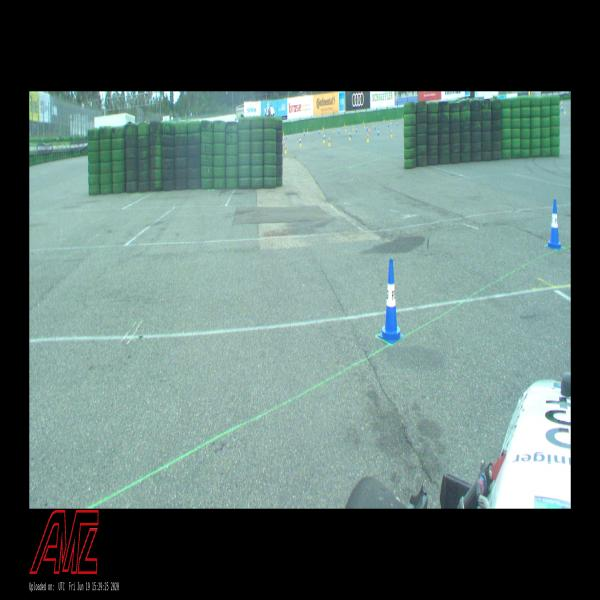blue_cone: (378, 258, 404, 345), (546, 199, 563, 250), (324, 132, 326, 141), (377, 128, 379, 136), (350, 130, 352, 138), (561, 105, 563, 112), (338, 128, 340, 134), (318, 128, 320, 134), (375, 123, 376, 130), (397, 120, 398, 126), (367, 125, 368, 131), (356, 127, 357, 133), (286, 134, 287, 140), (388, 122, 389, 128), (304, 131, 305, 136), (300, 136, 300, 144)
orange_cone: (283, 140, 285, 146), (368, 128, 370, 134)
yellow_cone: (328, 137, 331, 147), (285, 143, 287, 154), (367, 133, 369, 143), (390, 129, 392, 138), (300, 138, 302, 147), (349, 132, 351, 140), (564, 106, 566, 114), (323, 135, 325, 143), (345, 126, 347, 132), (561, 98, 563, 104), (390, 120, 392, 125), (372, 121, 374, 126), (344, 122, 346, 126), (307, 128, 308, 134), (321, 127, 322, 133), (364, 122, 365, 128), (283, 132, 284, 138), (353, 126, 354, 131), (323, 125, 324, 130), (363, 119, 364, 124), (402, 115, 403, 119), (334, 126, 334, 132), (384, 117, 384, 121)
